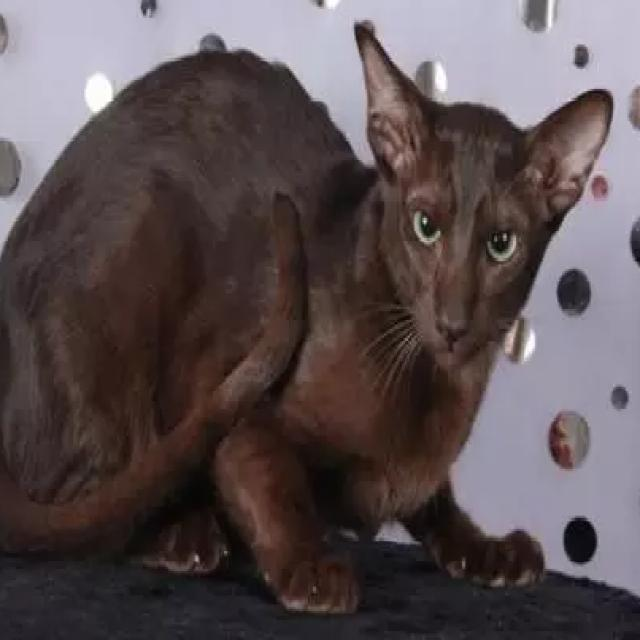Oriental: (0, 13, 616, 620)
